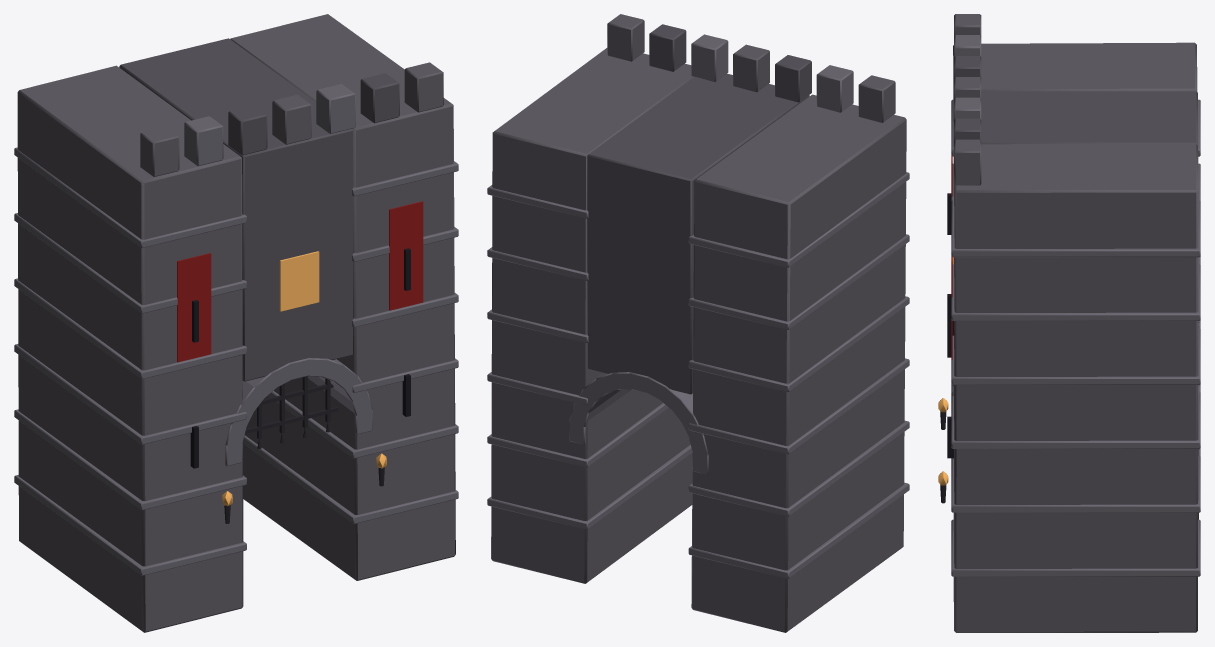
File: castle_gatehouse.glb
3 renders of one model, left to right at view 1: azimuth 30°, elevation 25°; view 2: azimuth 150°, elevation 25°; view 3: azimuth 270°, elevation 25°, orthographic. The views are drawn at different scales.
Visible parts, largest first — view 1: castle_gatehouse; view 2: castle_gatehouse; view 3: castle_gatehouse.
Part boxes in pixels (x1,y1,x2,y2): castle_gatehouse: (14,14,458,632); castle_gatehouse: (487,14,909,632); castle_gatehouse: (938,14,1200,632).
Size of the model in its own units: 13.2 by 19.43 by 9.69.
